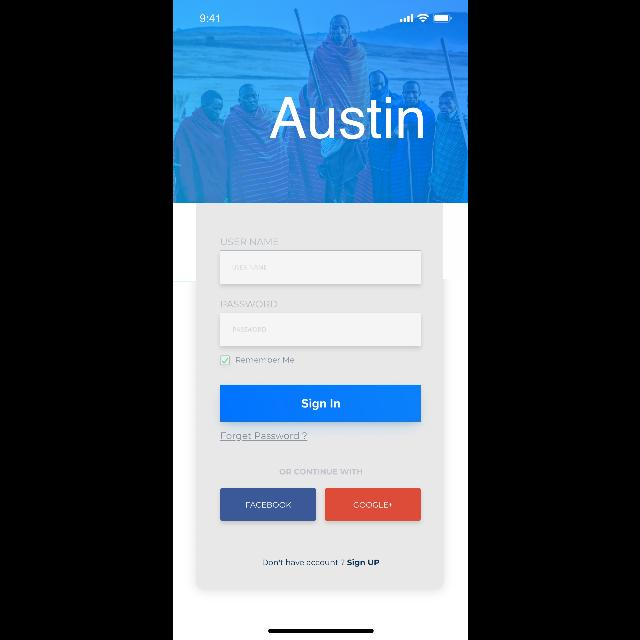checkbox: (220, 356, 228, 364)
image: (172, 0, 468, 204)
input: (220, 250, 420, 284), (220, 314, 420, 346)
text: (270, 97, 422, 139), (262, 559, 378, 567), (220, 432, 306, 442), (278, 469, 362, 475), (220, 238, 278, 246), (221, 300, 277, 308), (235, 357, 293, 363), (232, 264, 266, 270), (232, 328, 266, 332)
textbutton: (220, 384, 420, 422), (220, 488, 316, 520), (324, 488, 420, 520)
uppertaskbar: (199, 14, 451, 22)
